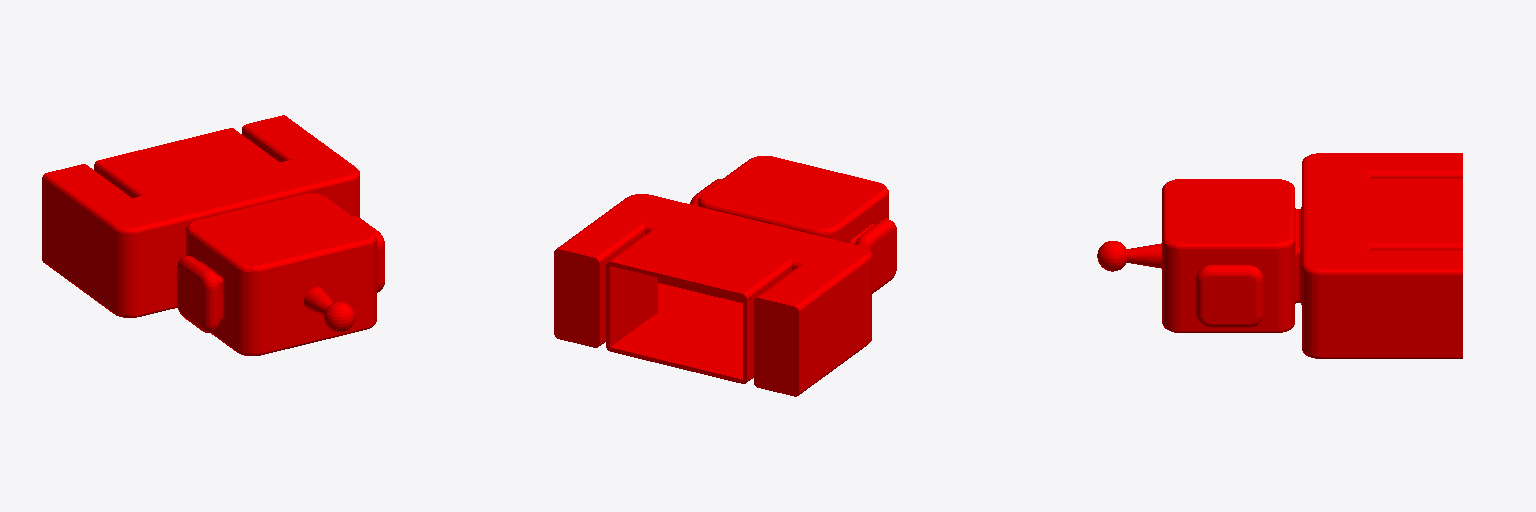
Rendered from 6inch_robot.dwg.obj.
The picture shows the model from 3 angles: view 1: azimuth 30°, elevation 25°; view 2: azimuth 150°, elevation 25°; view 3: azimuth 270°, elevation 25°; orthographic projection.
Size of the model in its own units: 1.42 by 0.497 by 1.83.